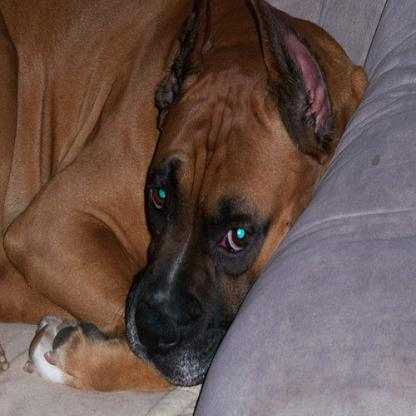dog: (0, 0, 366, 391)
